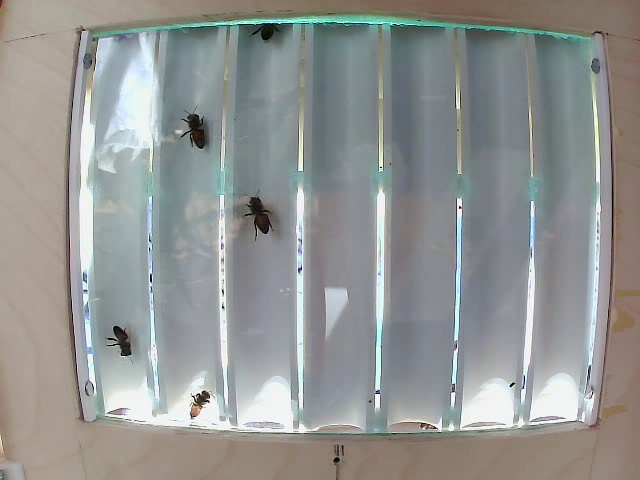bee: (240, 192, 282, 237), (101, 313, 139, 360), (183, 109, 218, 151), (179, 380, 212, 418)
